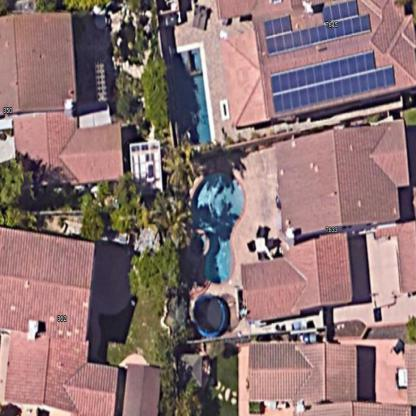pool: (184, 164, 250, 288), (158, 40, 220, 150)
